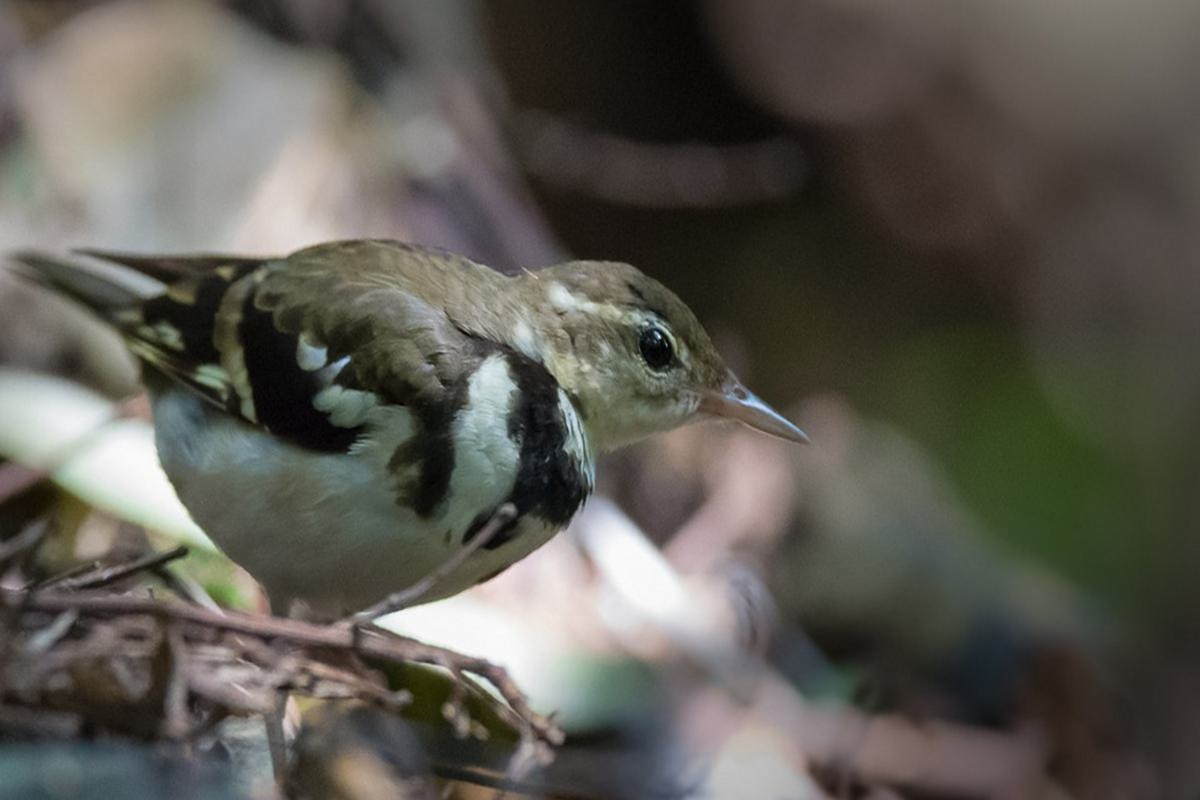wagtail: (145, 243, 791, 587)
